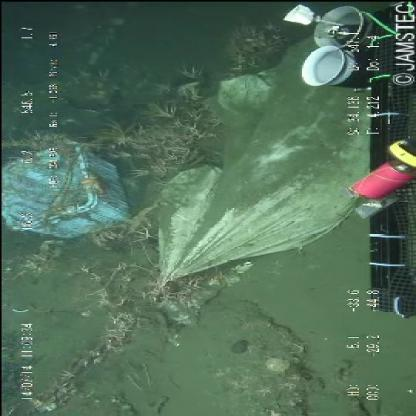Rov: (268, 1, 414, 329)
Rác: (2, 136, 138, 242)
